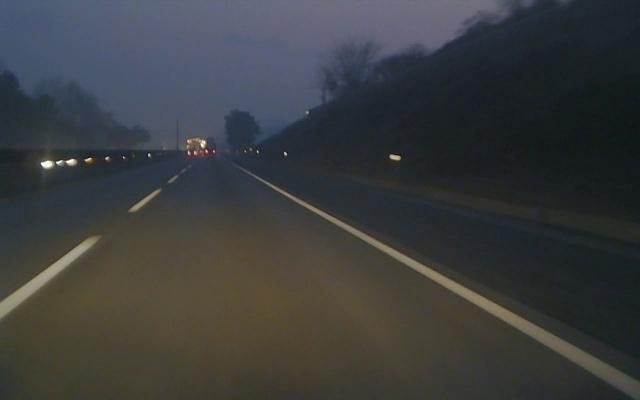lane: (241, 165, 640, 400), (0, 166, 192, 323)
